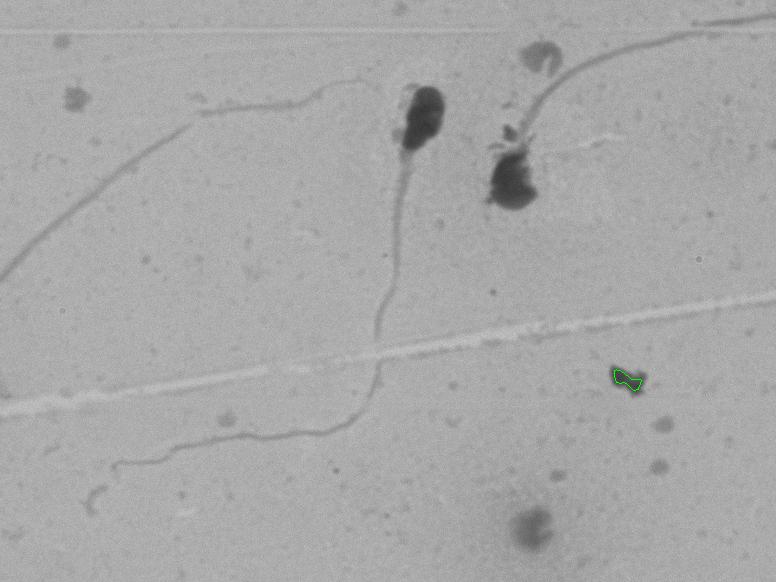Abnormal: (104, 63, 455, 513), (479, 9, 751, 280)
